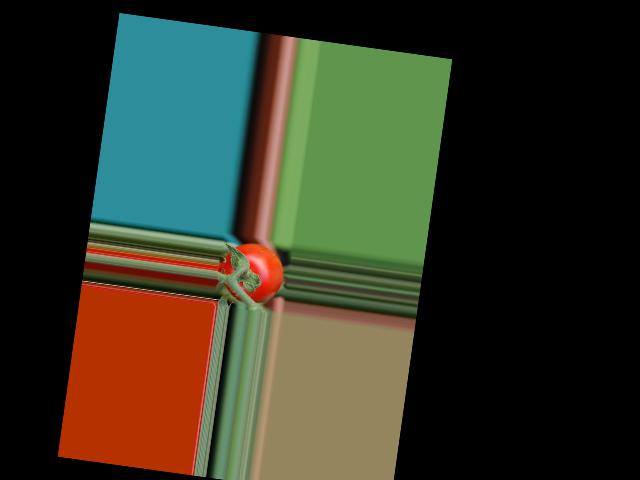tomato: (214, 239, 286, 307)
